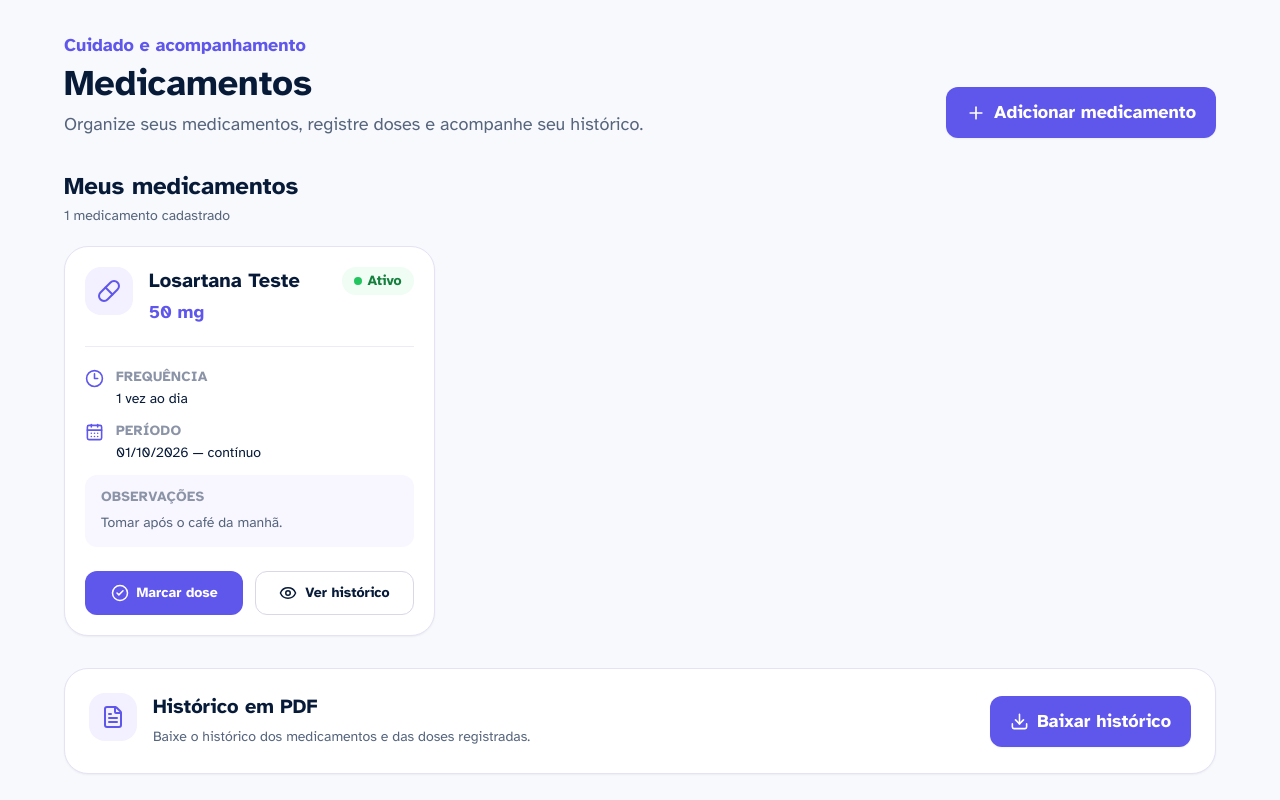
Scenario: Remedios: acessibilidade do modal de dose › estado de envio da dose continua acessível
Click the button "Marcar dose": (164, 593) x1=85 y1=571 x2=243 y2=615
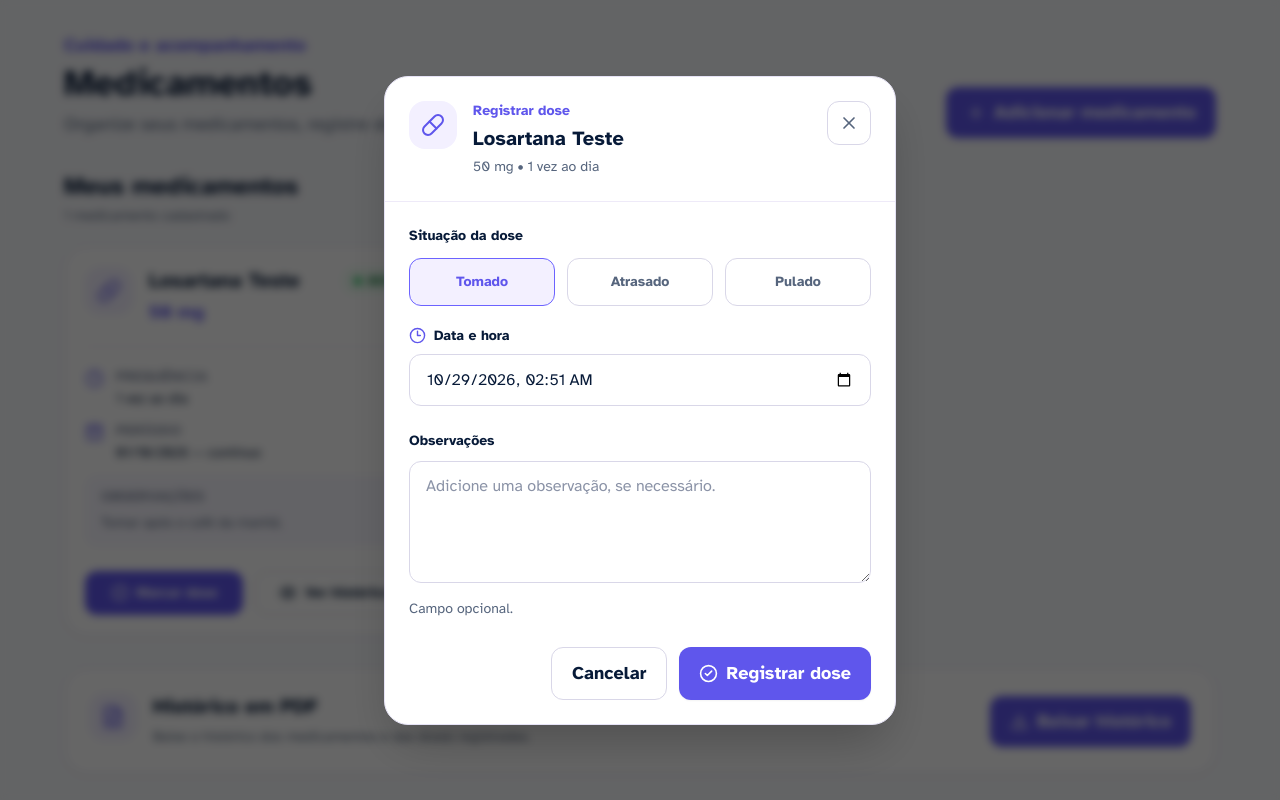
Click the button "Registrar dose": (775, 673) x1=680 y1=646 x2=871 y2=700
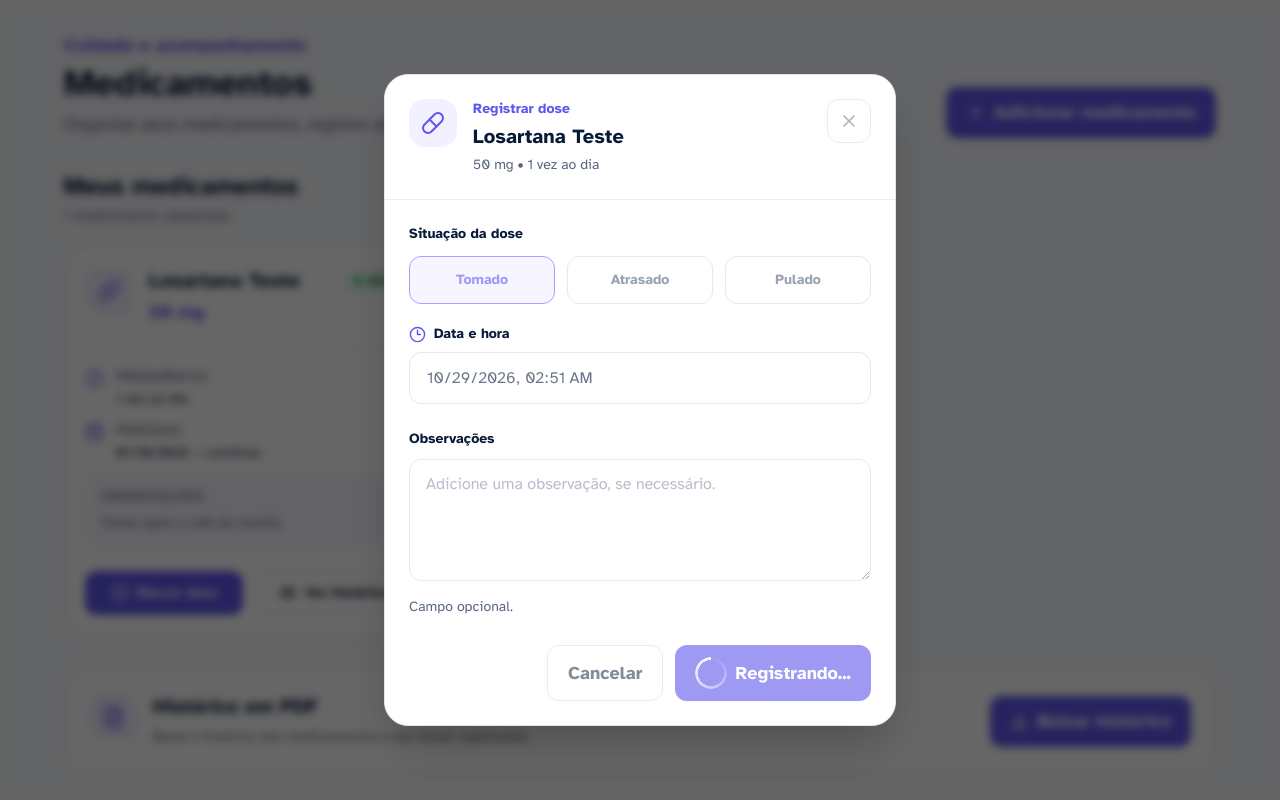
Expected: the button "Registrando..." is disabled, x1=676 y1=645 x2=871 y2=701
